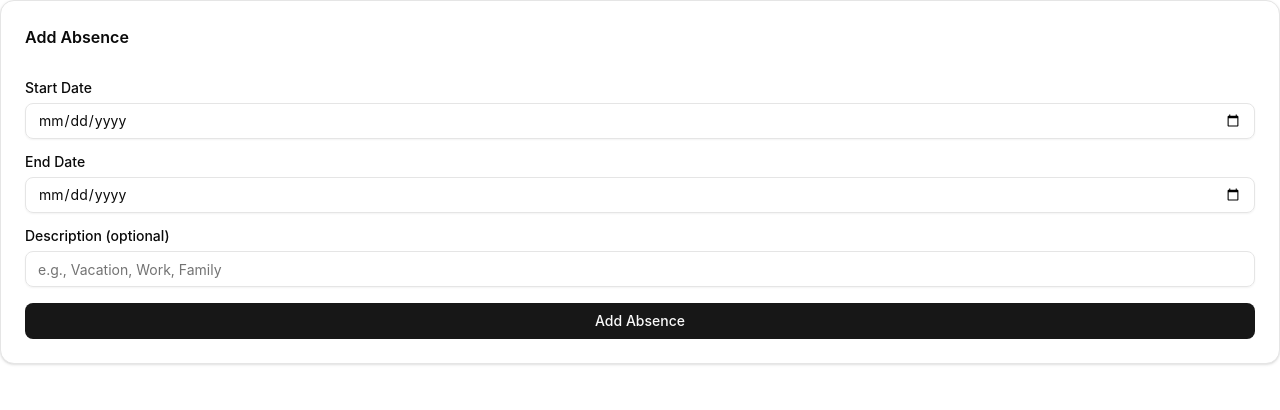
Scenario: AbsenceForm › shows validation error when start date is after end date
Type "2024-06-15" into the date field labelled "Start Date" at (640, 121), box [25, 103, 1255, 139]
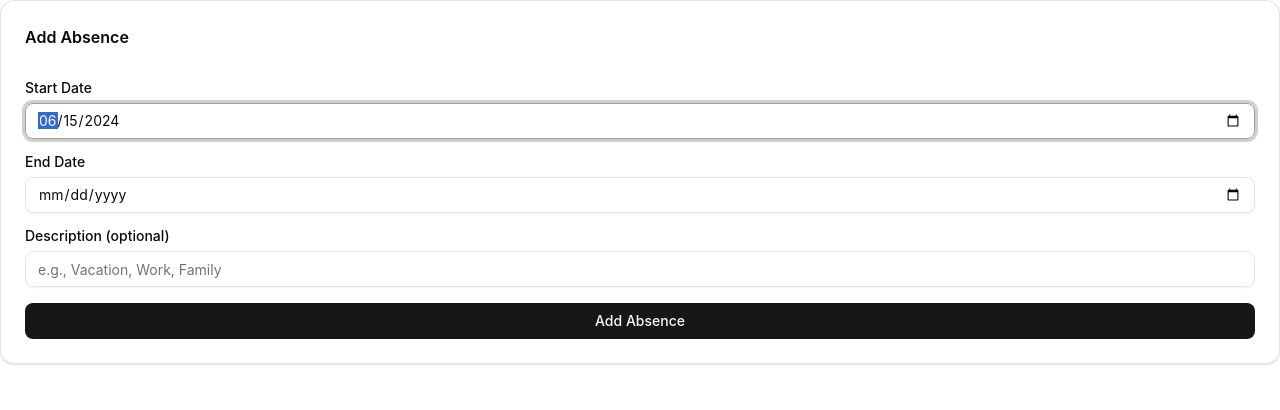
Type "2024-06-01" into the date field labelled "End Date" at (640, 195), box [25, 177, 1255, 213]
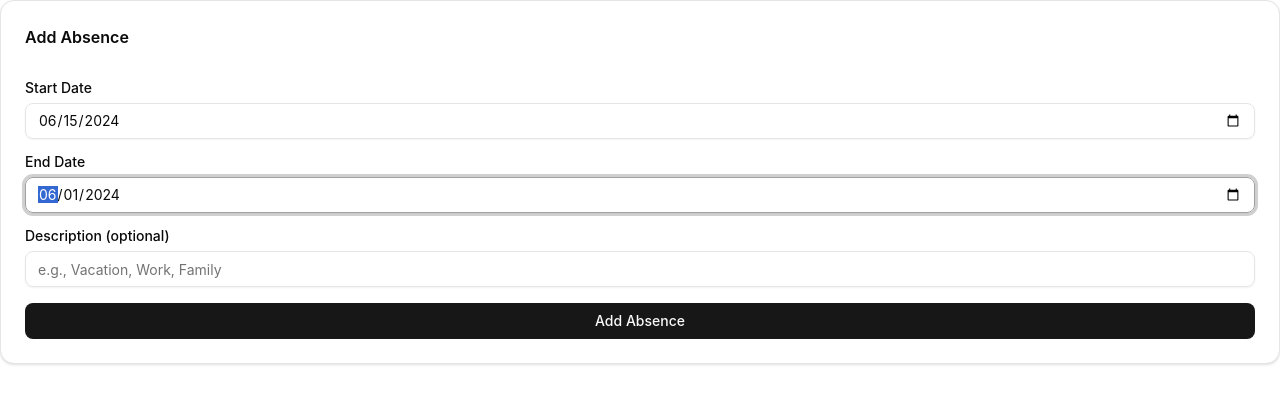
Click the button "Add Absence" at (640, 321), box [25, 303, 1255, 339]
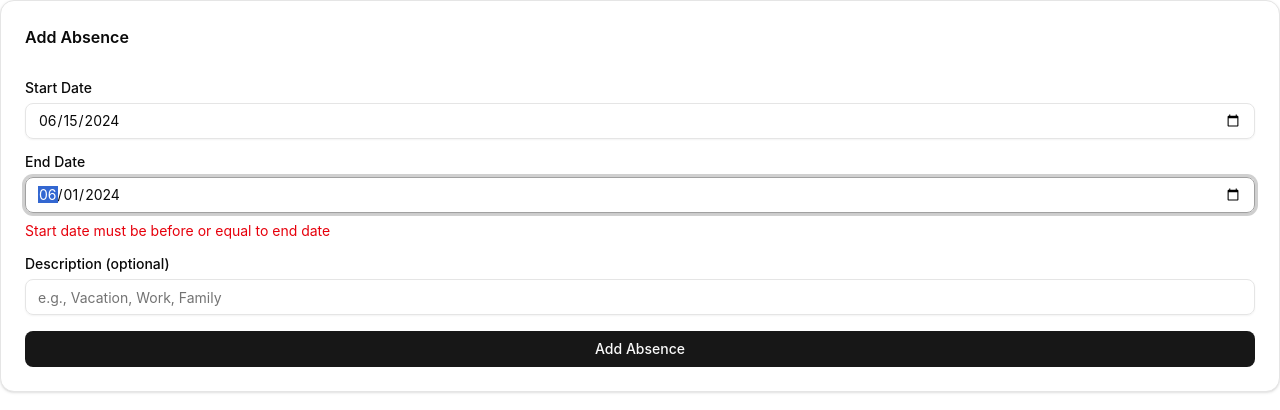
Expected: the text "Start date must be before or equal to end date" is shown, [25, 222, 330, 239]
